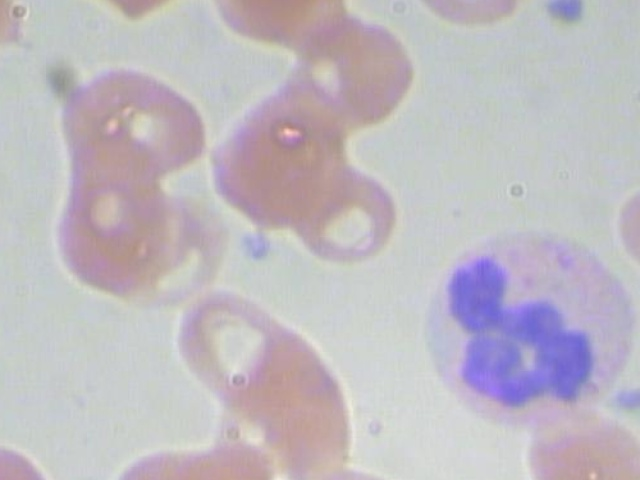Platelets: (228, 225, 280, 264), (605, 380, 640, 419), (541, 0, 593, 24)
RBC: (41, 57, 219, 184), (41, 158, 181, 303), (280, 13, 432, 139), (165, 285, 300, 406), (215, 83, 349, 196), (280, 157, 414, 269), (93, 434, 264, 480), (0, 416, 71, 480), (284, 452, 436, 480), (615, 182, 640, 294), (637, 222, 640, 334)
WBC: (422, 219, 640, 434)
